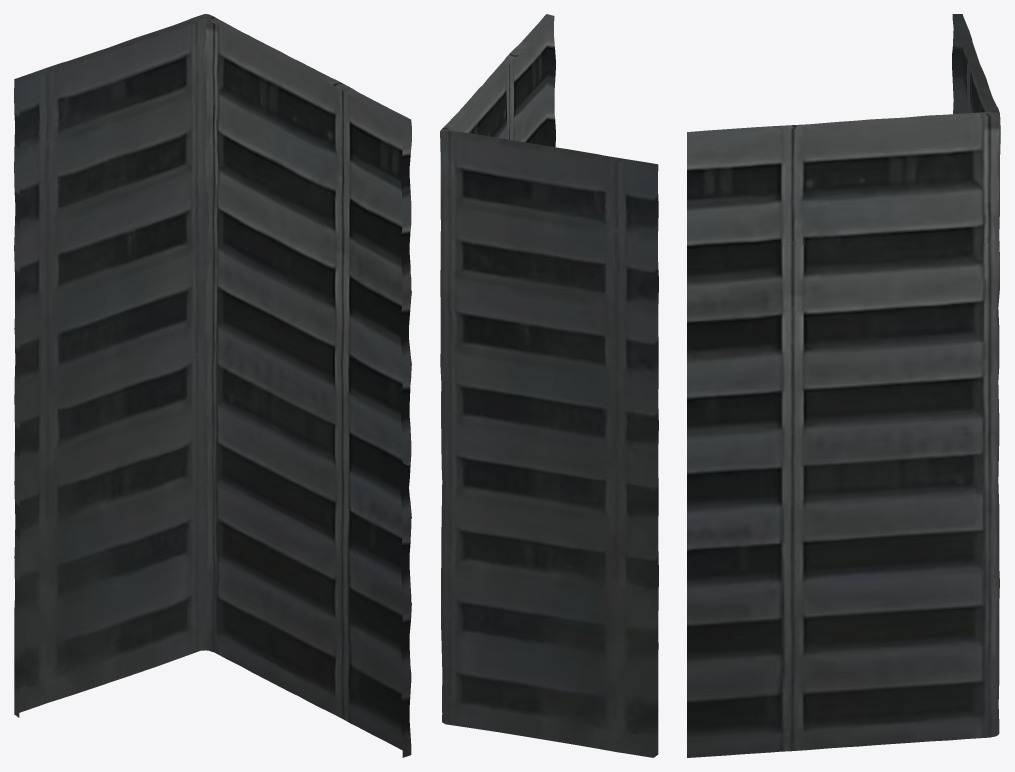
Rendered from z20-167765-405237-h1-yup-uvflip-v3-world.glb.
3 views of the same model, side by side, from view 1: azimuth 30°, elevation 25°; view 2: azimuth 150°, elevation 25°; view 3: azimuth 270°, elevation 25° (orthographic). The views are drawn at different scales.
Bounding box in the file's own units: 14.24 × 33.72 × 15.4.
Materials: 1 (1 with a texture image).
